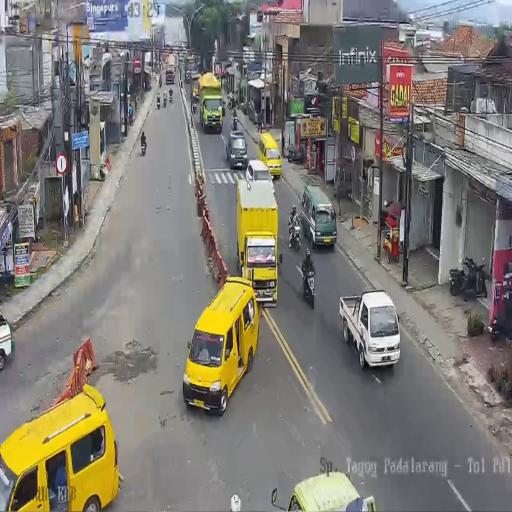car: (0, 382, 120, 510), (182, 278, 260, 413), (300, 183, 336, 249), (258, 131, 281, 179), (224, 127, 248, 170), (0, 309, 15, 370), (187, 53, 194, 65), (186, 67, 192, 81)
motorcycle: (450, 256, 487, 302), (288, 211, 301, 252), (286, 143, 303, 164), (227, 92, 236, 112), (140, 134, 146, 156), (220, 98, 226, 116), (192, 95, 197, 113), (156, 94, 161, 109), (163, 91, 167, 107), (169, 90, 173, 102), (159, 75, 162, 87)
truck: (235, 166, 279, 305), (198, 72, 224, 134), (165, 54, 176, 86)
